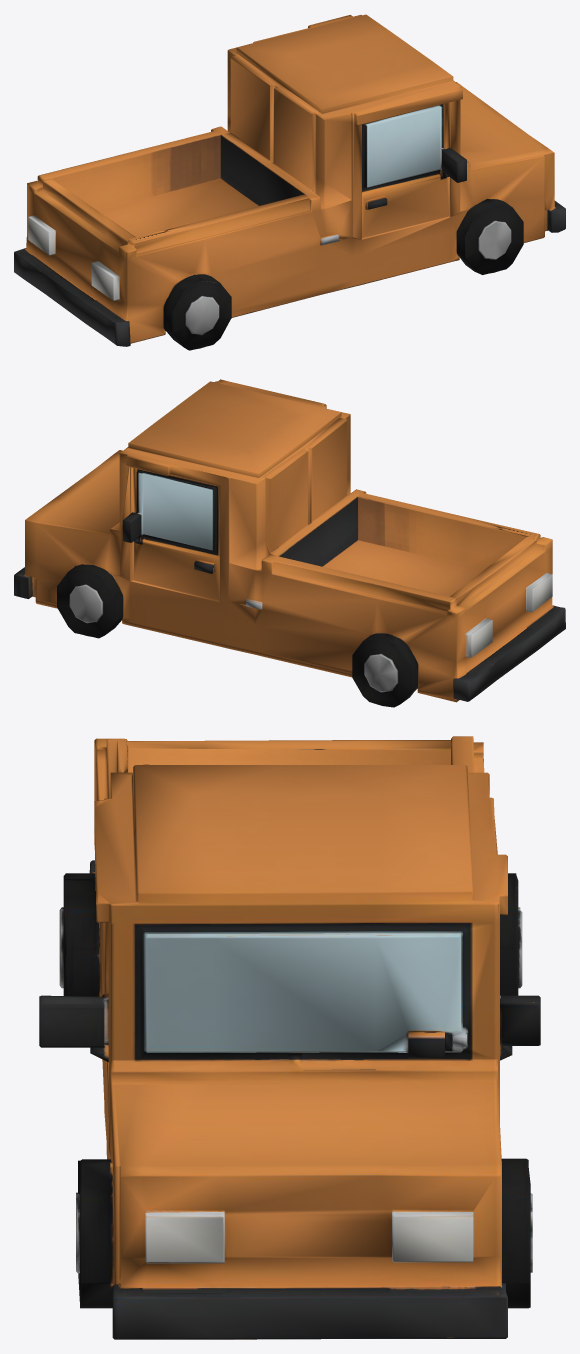
The model's file is cute-car-pickup-tripo-original.glb.
The picture shows the model from 3 angles, top to bottom: view 1: azimuth 30°, elevation 25°; view 2: azimuth 150°, elevation 25°; view 3: azimuth 270°, elevation 25°; orthographic projection. The views are drawn at different scales.
Parts seen in each view (by area): view 1: tripo_node_69c7a569-d67b-4cc3-96f4-7cfcc3283a26; view 2: tripo_node_69c7a569-d67b-4cc3-96f4-7cfcc3283a26; view 3: tripo_node_69c7a569-d67b-4cc3-96f4-7cfcc3283a26.
Boxes of the visible parts, left/top/right/bottom form: tripo_node_69c7a569-d67b-4cc3-96f4-7cfcc3283a26: left=14, top=14, right=565, bottom=350; tripo_node_69c7a569-d67b-4cc3-96f4-7cfcc3283a26: left=14, top=379, right=565, bottom=707; tripo_node_69c7a569-d67b-4cc3-96f4-7cfcc3283a26: left=39, top=736, right=540, bottom=1339.
Size of the model in its own units: 1 by 0.4051 by 0.4814.
1 material, 1 textured.
